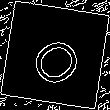O_NE: (22, 23, 88, 87)
